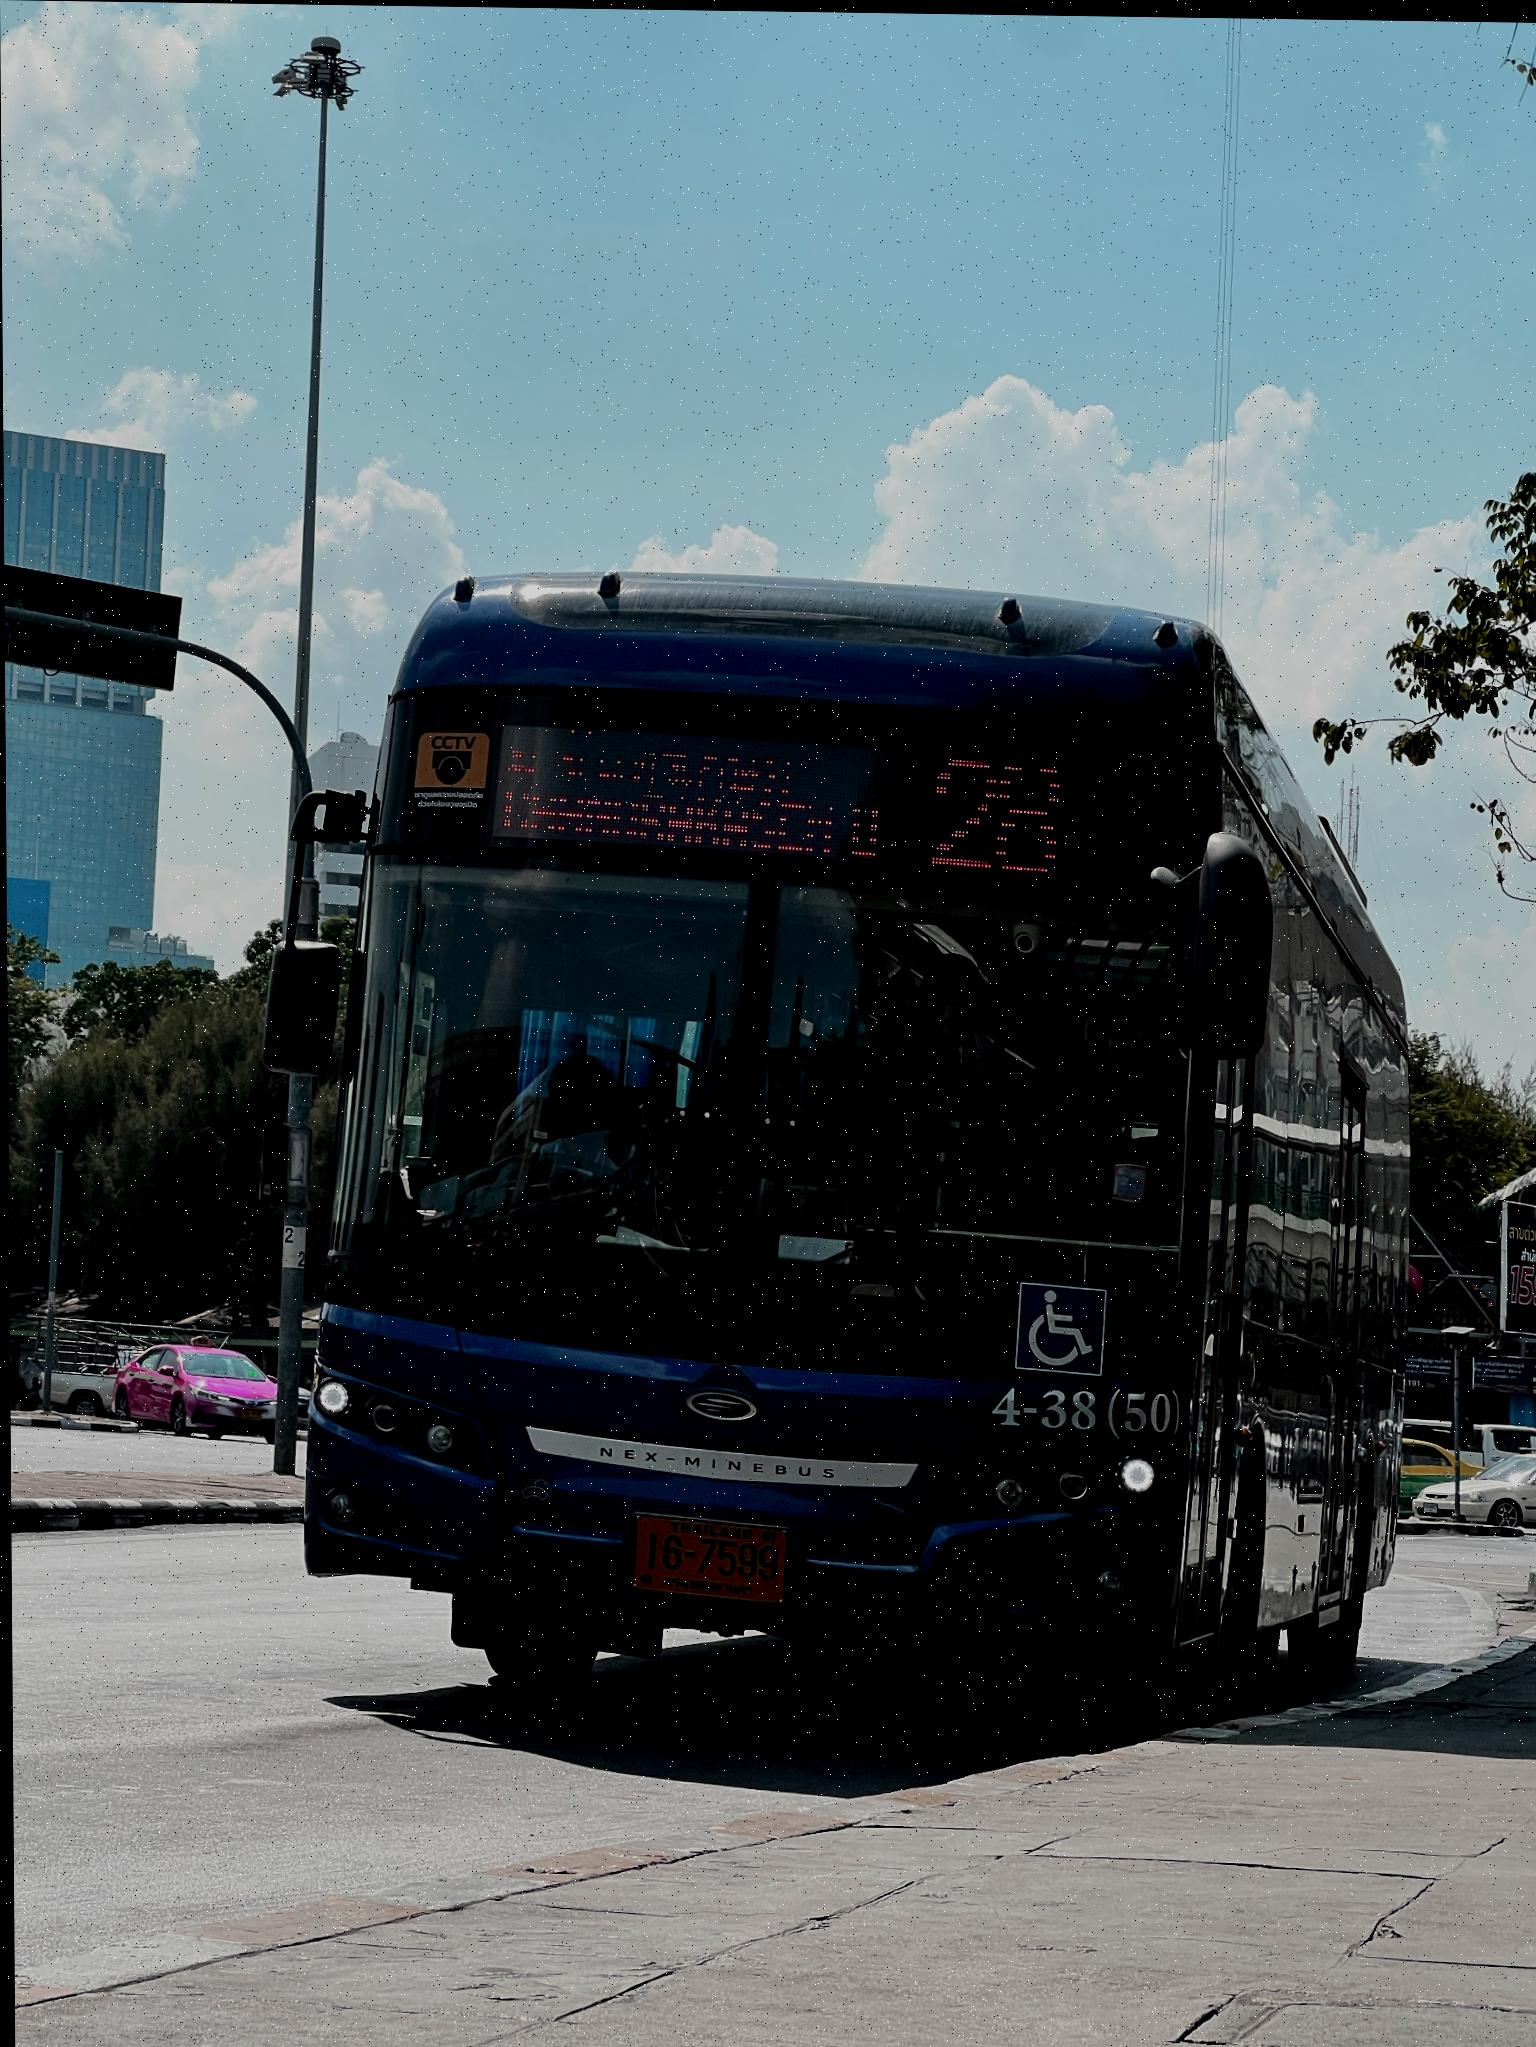Bus Line Number: (913, 723, 1079, 894)
Bus Side Number: (979, 1368, 1183, 1436)
Destination Sign: (487, 697, 897, 895)
TSB-Bus: (276, 568, 1413, 1723)
